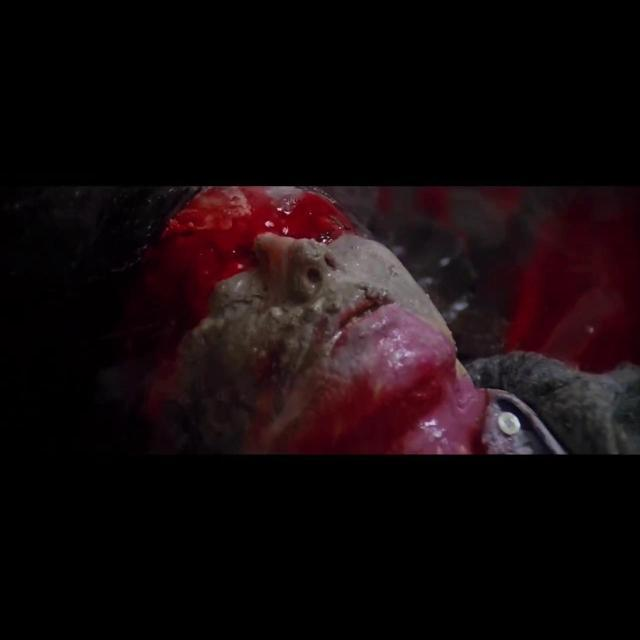blood: (120, 187, 350, 411), (508, 188, 640, 370), (281, 350, 482, 454), (470, 188, 524, 224), (407, 188, 458, 220)
